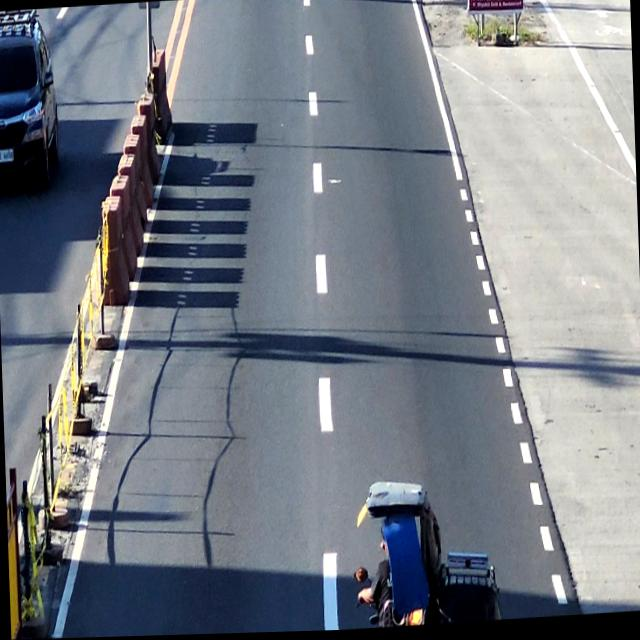Tricycle: (352, 480, 506, 631)
